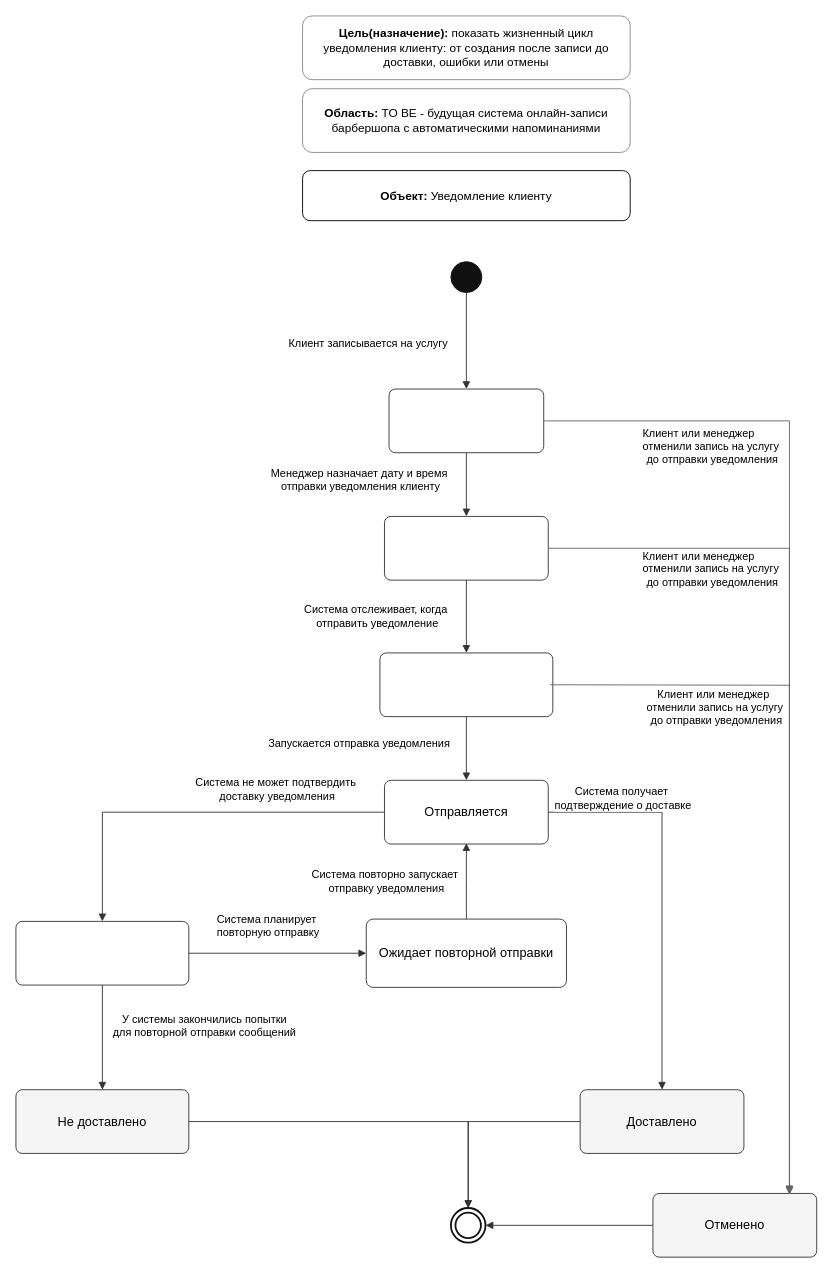
Image size: 833x1273. Some labels were removed from this diagram. The shapes that lost their labels are listed below. From the top down, each one's centre as x and y in pixels, then its label:
At (x=466, y=420): "Создано".
At (x=466, y=548): "Запланировано".
At (x=466, y=684): "Ожидает отправки".
At (x=102, y=952): "Ошибка отправки".
